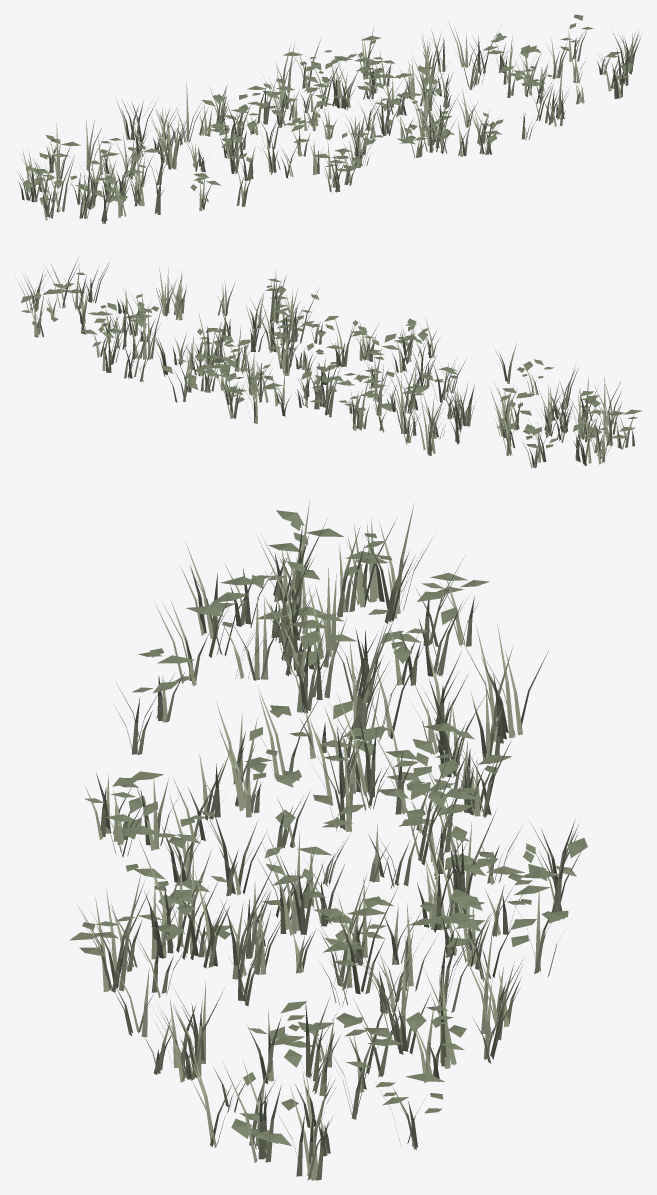
Rendered from AE_Encroachment_14.fbx.
3 renders of one model, top to bottom at view 1: azimuth 30°, elevation 25°; view 2: azimuth 150°, elevation 25°; view 3: azimuth 270°, elevation 25°, orthographic. The views are drawn at different scales.
Parts seen in each view (by area): view 1: AE_Encroachment_14_LOD0; view 2: AE_Encroachment_14_LOD0; view 3: AE_Encroachment_14_LOD0.
Part boxes in pixels (<box>): AE_Encroachment_14_LOD0: <box>17,14,641,223</box>; AE_Encroachment_14_LOD0: <box>16,257,642,468</box>; AE_Encroachment_14_LOD0: <box>69,499,587,1180</box>.
Size of what is drawn, in the model's own units: 1222 by 108 by 445.
